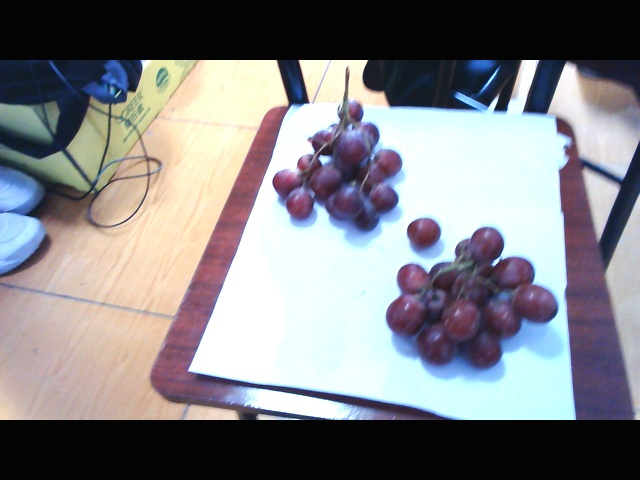grape: (389, 212, 557, 376), (278, 103, 404, 228)
